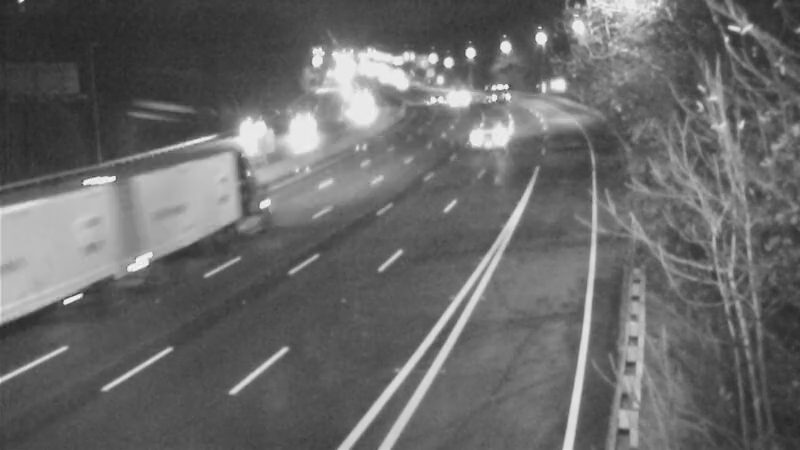vehicle: (123, 174, 203, 254), (484, 71, 534, 121), (433, 70, 483, 120), (411, 70, 461, 120), (467, 111, 517, 161), (278, 111, 328, 161), (225, 110, 275, 160), (335, 87, 385, 137)
